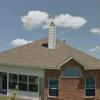Chimney: (41, 16, 66, 60)
